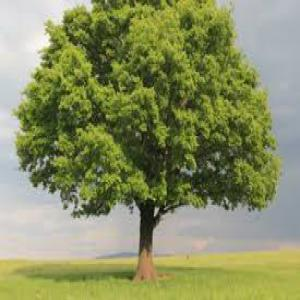Tree: (12, 0, 283, 285)
